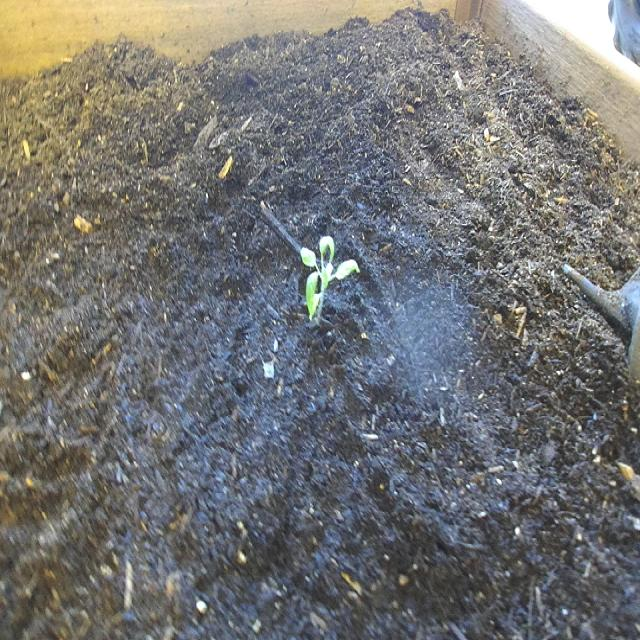Healthy: (298, 230, 364, 333)
